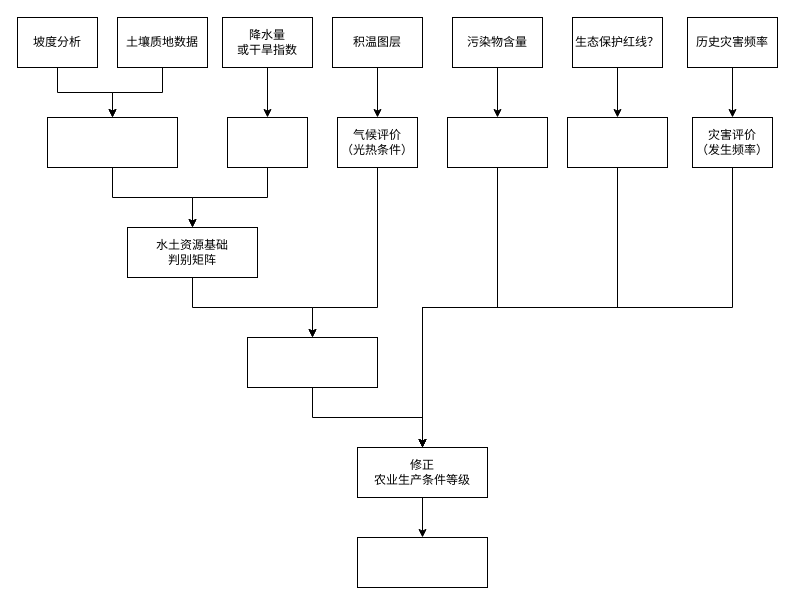
Some shapes in this 795 by 605 pixel diagram are drawn without their labels. Here are the shapes that lost their labels. From the top down, the box of each, then its label:
(46, 116, 178, 168): 土地资源评价
(226, 116, 308, 168): 水资源评价
(446, 116, 548, 168): 环境评价 （土壤环境容量）
(566, 116, 668, 168): 生态评价 （盐渍化敏感性）
(246, 336, 378, 388): 初判 农业生产条件等级
(356, 536, 488, 588): 确定适宜性等级
